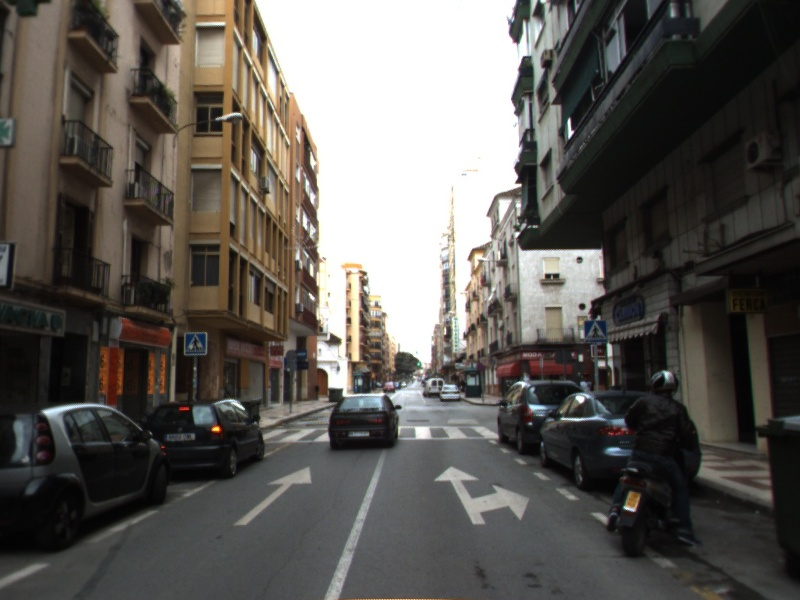STRAIGHT: (232, 465, 313, 527)
STRAIGHT_RIGHT: (432, 464, 531, 526)
